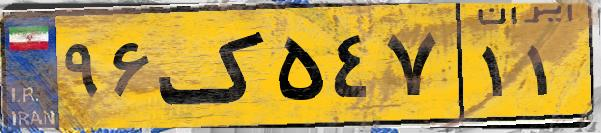1: (475, 38, 525, 113), (525, 38, 570, 115)
4: (330, 28, 385, 110)
5: (270, 28, 330, 110)
6: (110, 28, 158, 98)
7: (385, 28, 445, 110)
9: (57, 26, 110, 100)
ک: (158, 12, 270, 120)
